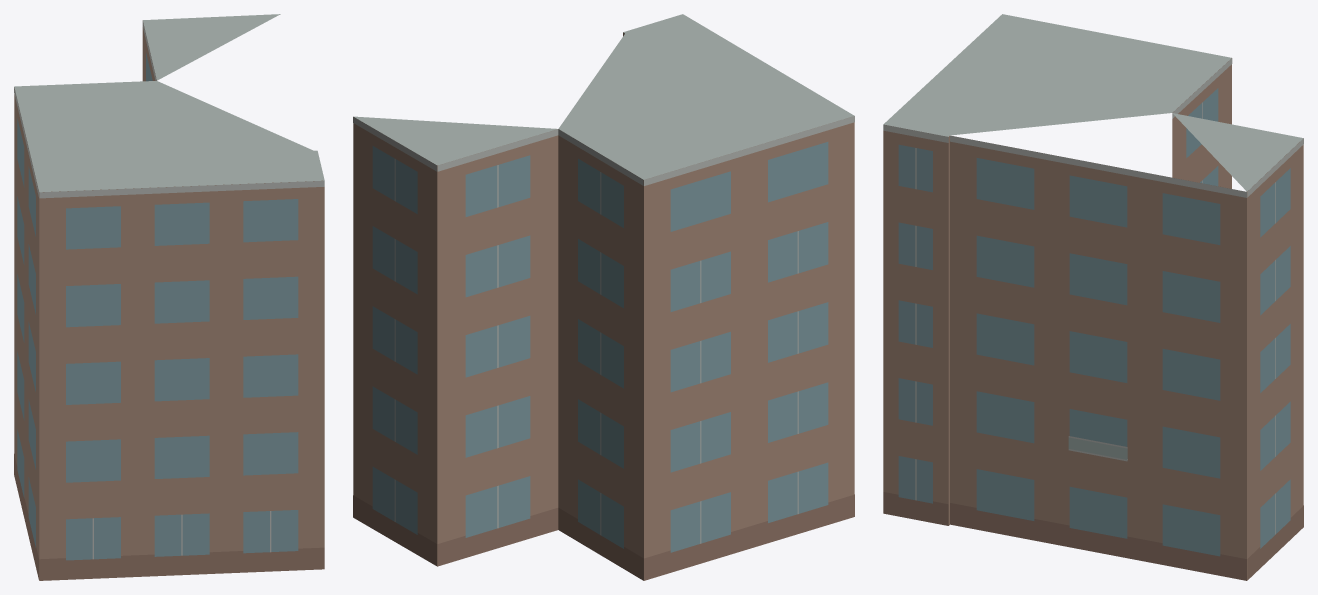
Rendered from survey-upis-32532194.glb.
3 renders of one model, left to right at view 1: azimuth 30°, elevation 25°; view 2: azimuth 150°, elevation 25°; view 3: azimuth 270°, elevation 25°, orthographic. The views are drawn at different scales.
Parts seen in each view (by area): view 1: survey-upis-32532194.tmp; view 2: survey-upis-32532194.tmp; view 3: survey-upis-32532194.tmp.
Part boxes in pixels (box(x1,y1,x2,y2)): survey-upis-32532194.tmp: box(14, 14, 324, 580); survey-upis-32532194.tmp: box(353, 14, 854, 580); survey-upis-32532194.tmp: box(883, 14, 1303, 580).
Bounding box in the file's own units: 15.1 × 15.4 × 15.09.
